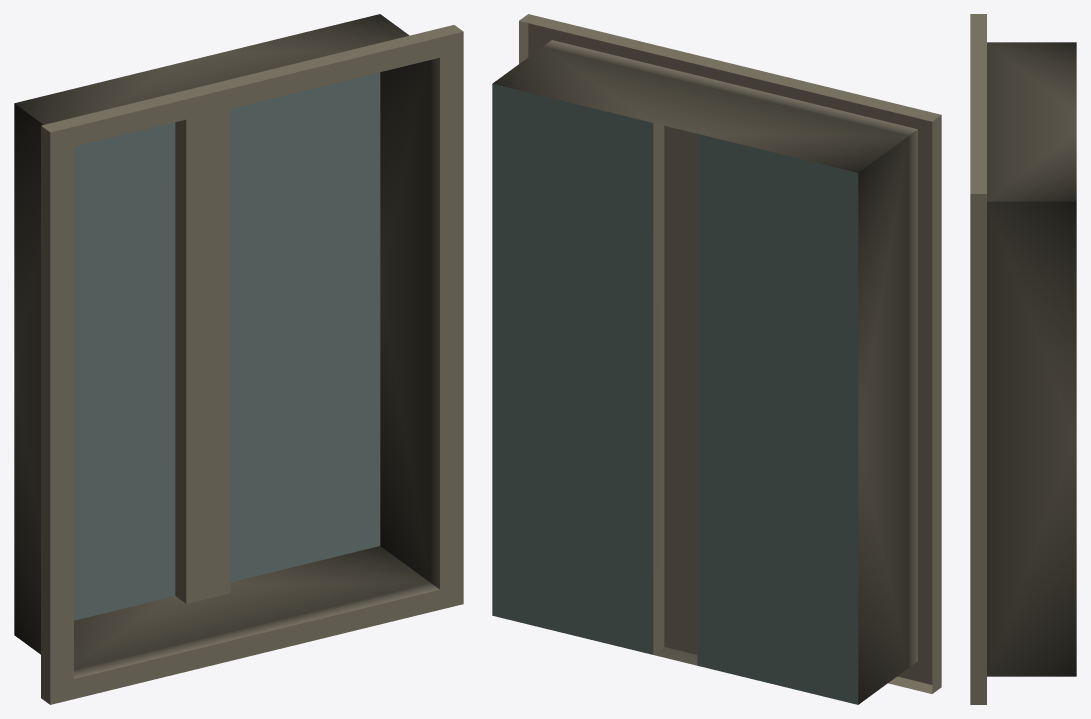
File: Windows2.fbx
The picture shows the model from 3 angles, left to right: view 1: azimuth 30°, elevation 25°; view 2: azimuth 150°, elevation 25°; view 3: azimuth 270°, elevation 25°; orthographic projection. The views are drawn at different scales.
Parts seen in each view (by area): view 1: Starie Stekla; view 2: Starie Stekla; view 3: Starie Stekla.
Part boxes in pixels (<box>): Starie Stekla: <box>14,14,463,704</box>; Starie Stekla: <box>492,14,941,704</box>; Starie Stekla: <box>970,14,1076,704</box>.
Bounding box in the file's own units: 2.39 × 0.5973 × 3.16.
